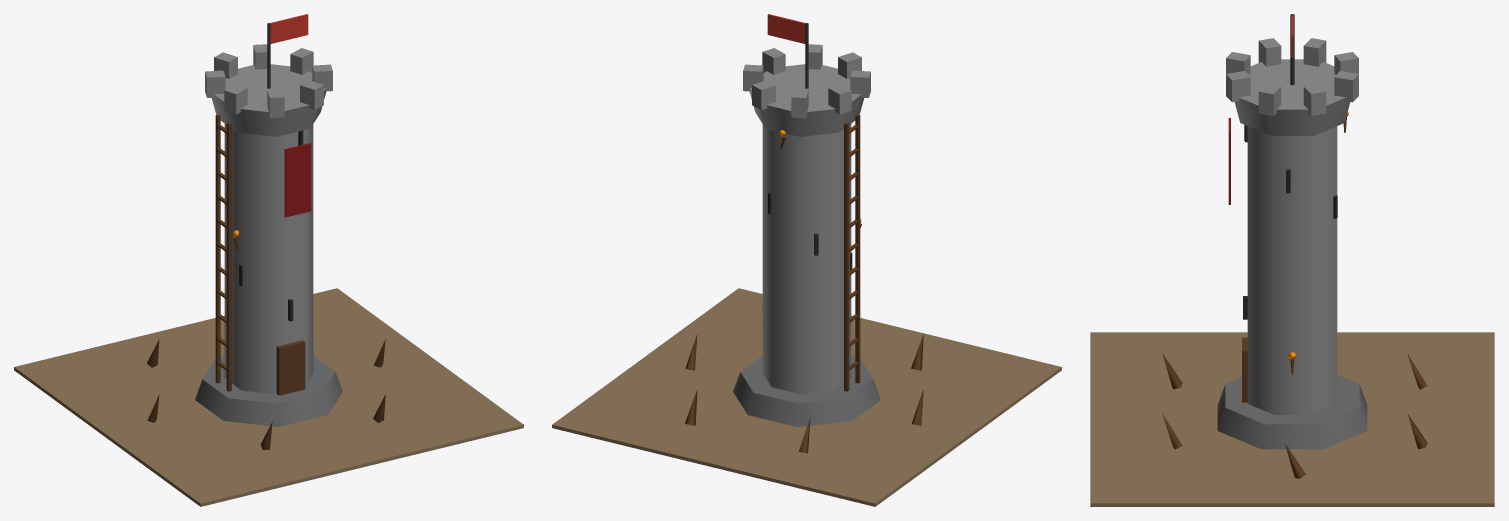
File: watchtower.glb
3 renders of one model, left to right at view 1: azimuth 30°, elevation 25°; view 2: azimuth 150°, elevation 25°; view 3: azimuth 270°, elevation 25°, orthographic. The views are drawn at different scales.
Visible parts, largest first — view 1: Ground, TowerBody, Foundation, TopPlatform, Banner, LadderRail_L, MainDoor, LadderRail_R, Flag, Crenellation_3, Crenellation_1; view 2: Ground, TowerBody, Foundation, TopPlatform, LadderRail_R, LadderRail_L, Flag, Crenellation_4, Crenellation_6; view 3: Ground, TowerBody, Foundation, TopPlatform, Crenellation_1, Crenellation_6, Crenellation_0, Crenellation_7, Crenellation_3, Crenellation_4, Crenellation_2, Crenellation_5.
Part boxes in pixels (x1=…): Ground: x1=14, y1=288, x2=523, y2=506; TowerBody: x1=224, y1=124, x2=313, y2=394; Foundation: x1=195, y1=356, x2=342, y2=426; TopPlatform: x1=211, y1=64, x2=326, y2=136; Banner: x1=284, y1=143, x2=311, y2=217; LadderRail_L: x1=226, y1=122, x2=231, y2=391; MainDoor: x1=276, y1=340, x2=305, y2=395; LadderRail_R: x1=215, y1=114, x2=220, y2=383; Flag: x1=270, y1=14, x2=308, y2=43; Crenellation_3: x1=224, y1=84, x2=247, y2=114; Crenellation_1: x1=300, y1=80, x2=323, y2=110; Ground: x1=552, y1=288, x2=1061, y2=506; TowerBody: x1=762, y1=124, x2=851, y2=394; Foundation: x1=733, y1=356, x2=880, y2=426; TopPlatform: x1=749, y1=64, x2=864, y2=136; LadderRail_R: x1=844, y1=122, x2=849, y2=391; LadderRail_L: x1=855, y1=114, x2=860, y2=383; Flag: x1=767, y1=14, x2=805, y2=43; Crenellation_4: x1=828, y1=84, x2=851, y2=114; Crenellation_6: x1=752, y1=80, x2=775, y2=110; Ground: x1=1090, y1=332, x2=1494, y2=506; TowerBody: x1=1247, y1=126, x2=1337, y2=414; Foundation: x1=1217, y1=375, x2=1367, y2=449; TopPlatform: x1=1234, y1=59, x2=1350, y2=135; Crenellation_1: x1=1226, y1=71, x2=1250, y2=102; Crenellation_6: x1=1334, y1=71, x2=1358, y2=102; Crenellation_0: x1=1258, y1=84, x2=1281, y2=116; Crenellation_7: x1=1303, y1=84, x2=1326, y2=116; Crenellation_3: x1=1258, y1=38, x2=1281, y2=66; Crenellation_4: x1=1303, y1=38, x2=1326, y2=66; Crenellation_2: x1=1226, y1=52, x2=1250, y2=74; Crenellation_5: x1=1334, y1=52, x2=1358, y2=74.
Bounding box in the file's own units: 10 × 11.1 × 10.
